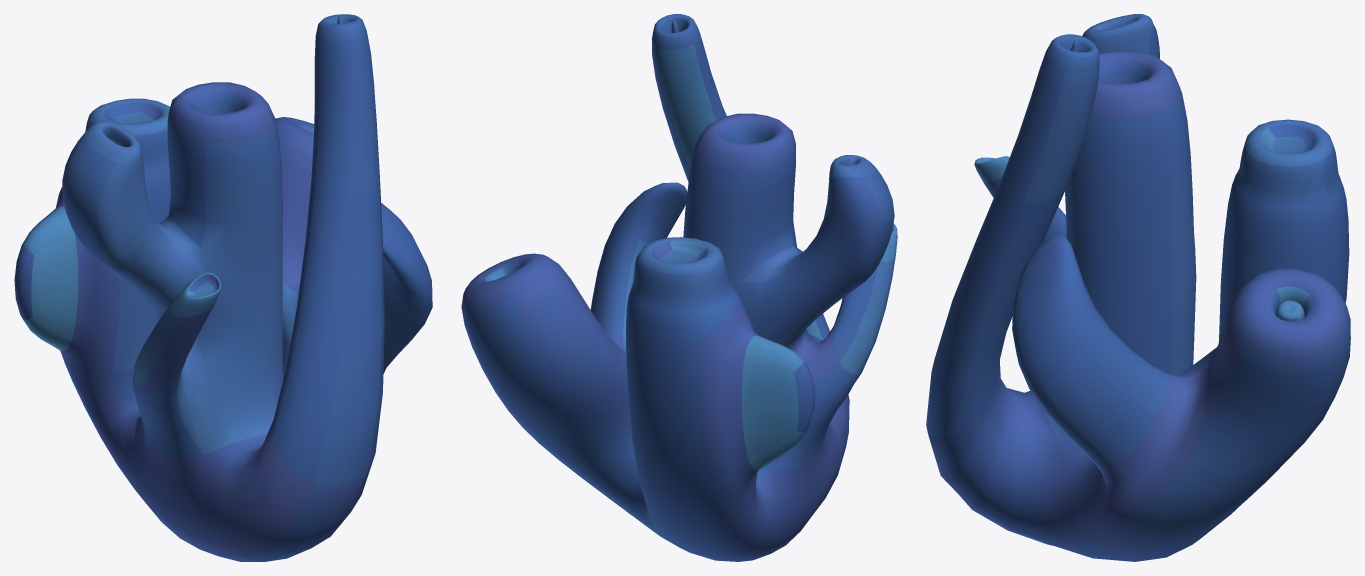
The model's file is FloraWater.fbx.
3 views of the same model, side by side, from view 1: azimuth 30°, elevation 25°; view 2: azimuth 150°, elevation 25°; view 3: azimuth 270°, elevation 25° (orthographic). The views are drawn at different scales.
Parts seen in each view (by area): view 1: Cube; view 2: Cube; view 3: Cube.
Part boxes in pixels (x1=…): Cube: x1=14, y1=14, x2=432, y2=561; Cube: x1=461, y1=14, x2=897, y2=561; Cube: x1=926, y1=14, x2=1350, y2=561.
Size of the model in its own units: 375 by 515 by 357.
